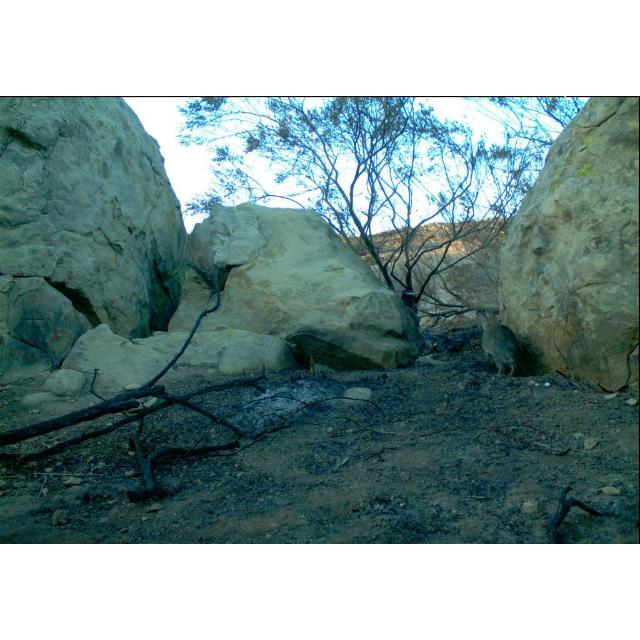animals: (476, 310, 524, 378)
